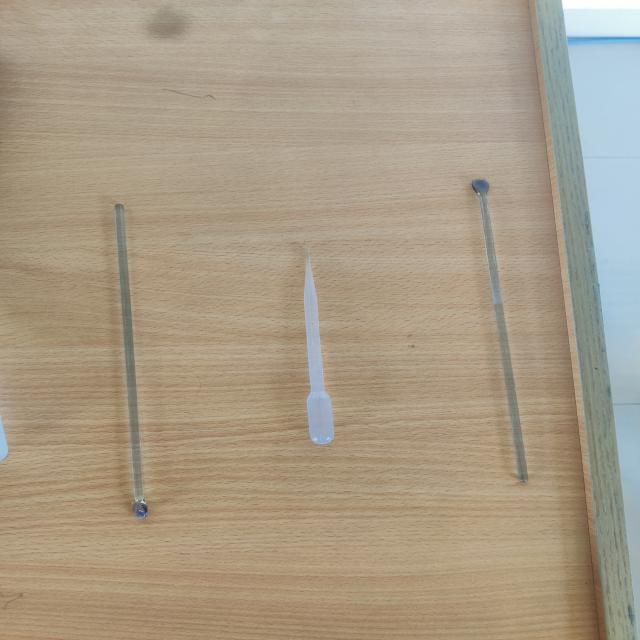Glass_Rod: (432, 148, 586, 510), (56, 181, 207, 535)
Pipette: (265, 221, 381, 467)
